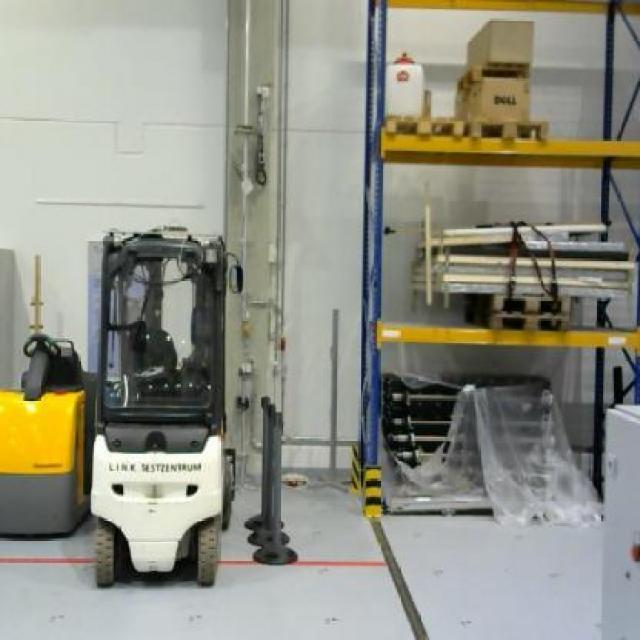box: (466, 18, 534, 67), (454, 78, 531, 120)
